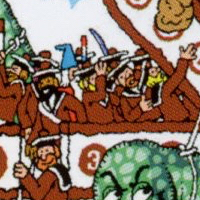wb: (60, 42, 82, 99)
